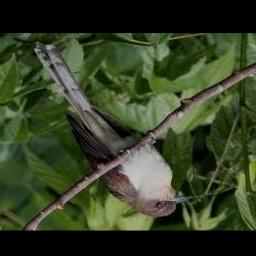Cuckoo: (34, 41, 190, 217)
